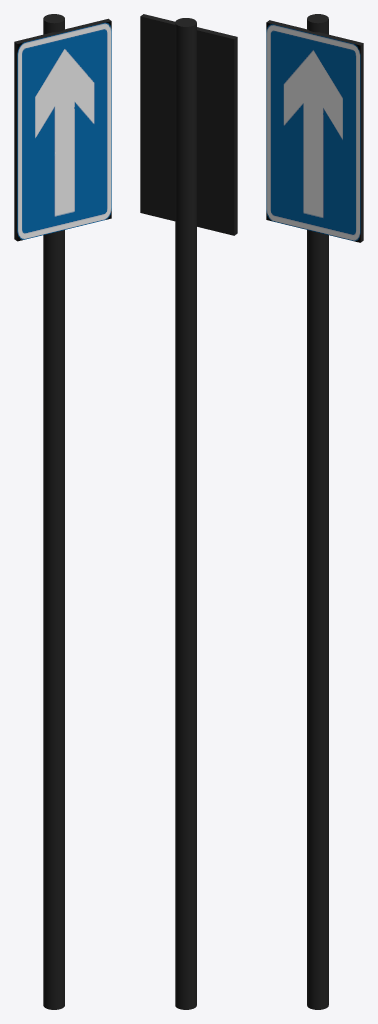
The model's file is RoadSign3.FBX.
3 views of the same model, side by side, from view 1: azimuth 30°, elevation 25°; view 2: azimuth 150°, elevation 25°; view 3: azimuth 330°, elevation 25° (orthographic).
Parts seen in each view (by area): view 1: Group001, Cone013, Box003; view 2: Cone013, Box003; view 3: Group001, Cone013, Box003.
Boxes of the visible parts, bbox=[...] form: Group001: bbox=[17, 21, 111, 241]; Cone013: bbox=[43, 14, 64, 1009]; Box003: bbox=[14, 18, 111, 240]; Cone013: bbox=[175, 18, 196, 1009]; Box003: bbox=[140, 14, 237, 235]; Group001: bbox=[266, 22, 360, 242]; Cone013: bbox=[307, 14, 328, 1009]; Box003: bbox=[266, 20, 363, 242].
Size of the model in its own units: 50 by 500 by 11.9.
2 materials, 1 textured.
